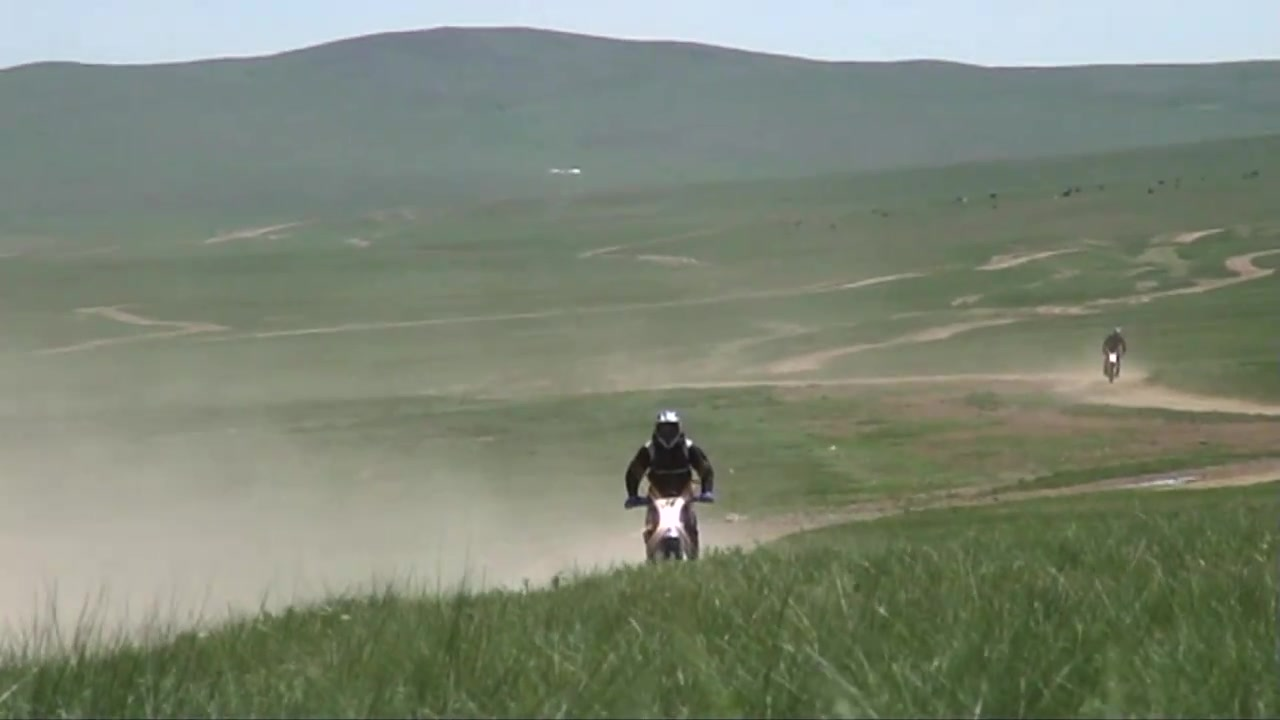motorbike: (624, 489, 721, 561), (1101, 347, 1127, 385)
